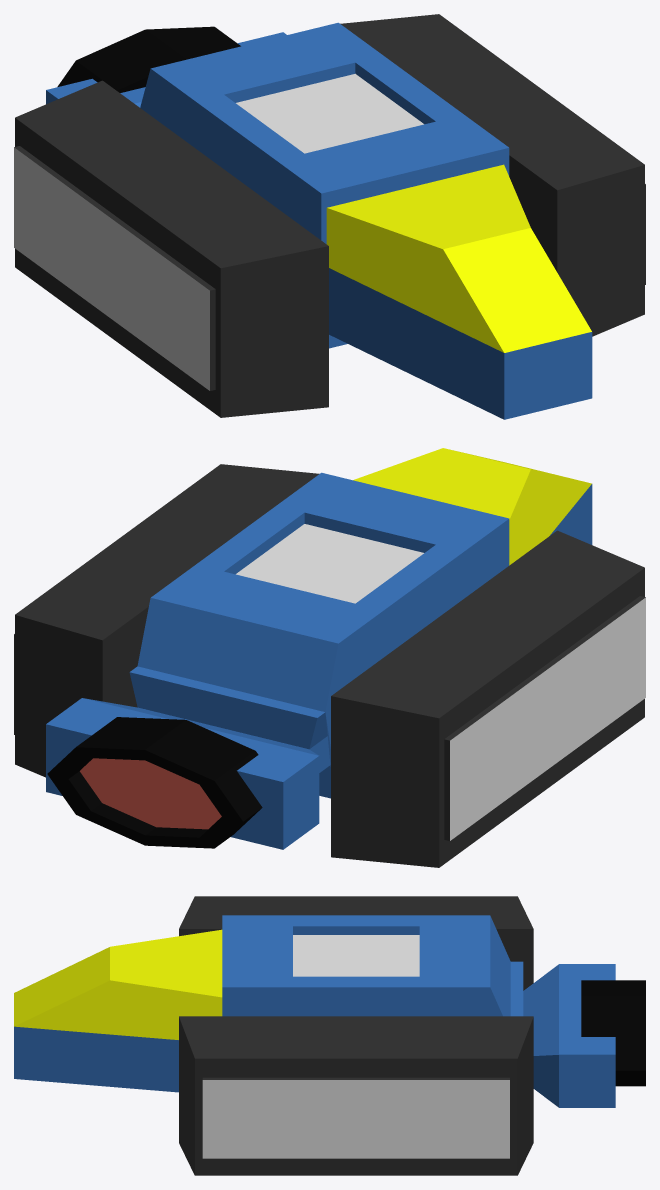
The model's file is kart1.fbx.
3 renders of one model, top to bottom at view 1: azimuth 30°, elevation 25°; view 2: azimuth 150°, elevation 25°; view 3: azimuth 270°, elevation 25°, orthographic. The views are drawn at different scales.
Parts seen in each view (by area): view 1: Cube, Cylinder; view 2: Cube, Cylinder; view 3: Cube, Cylinder.
Boxes of the visible parts, x1,y1,x2,y2 form: Cube: [14, 14, 645, 419]; Cylinder: [57, 26, 240, 92]; Cube: [14, 448, 645, 867]; Cylinder: [47, 717, 262, 848]; Cube: [14, 896, 615, 1175]; Cylinder: [581, 980, 645, 1086].
Bounding box in the file's own units: 332 × 137 × 531.
